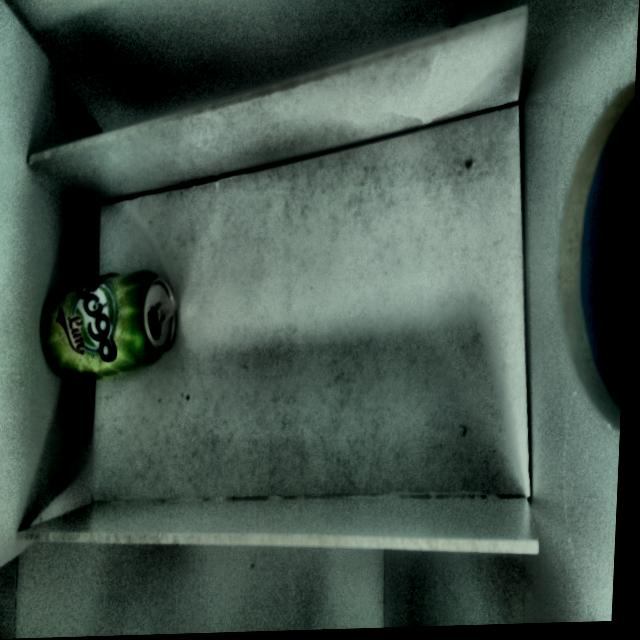Cans: (40, 267, 184, 382)
